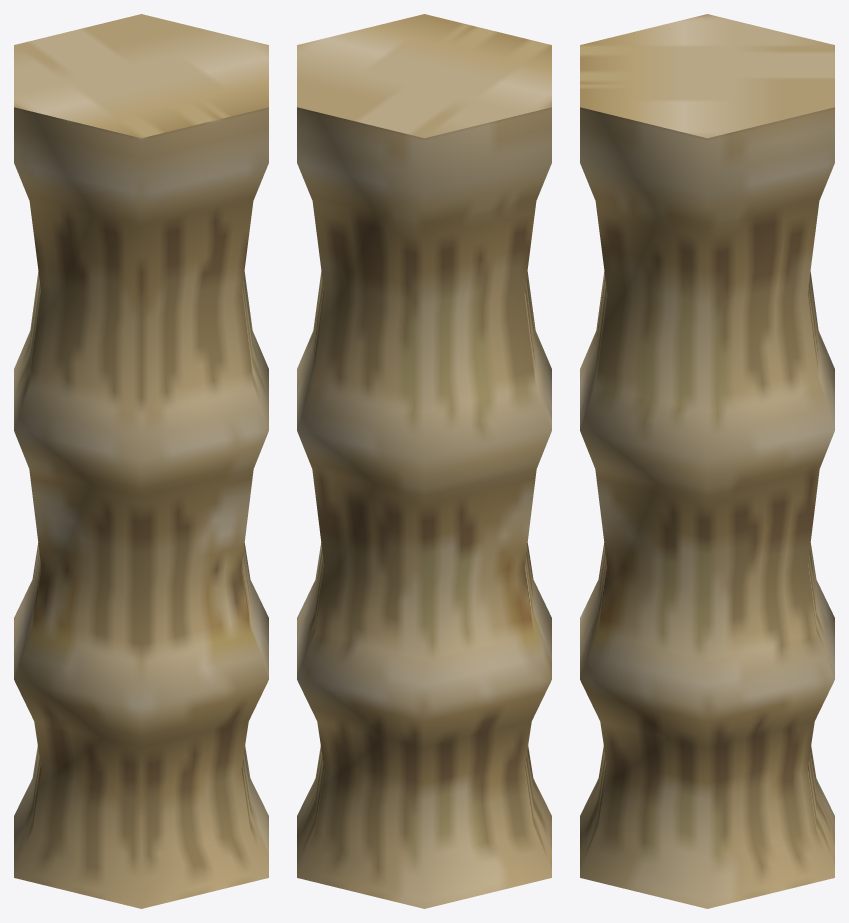
Rendered from Column.fbx.
3 renders of one model, left to right at view 1: azimuth 30°, elevation 25°; view 2: azimuth 150°, elevation 25°; view 3: azimuth 270°, elevation 25°, orthographic.
Visible parts, largest first — view 1: Column; view 2: Column; view 3: Column.
Part boxes in pixels (x1=…): Column: x1=14, y1=14, x2=268, y2=908; Column: x1=297, y1=14, x2=551, y2=908; Column: x1=580, y1=14, x2=834, y2=908.
Size of the model in its own units: 122 by 353 by 106.
Materials: 1 (1 with a texture image).
